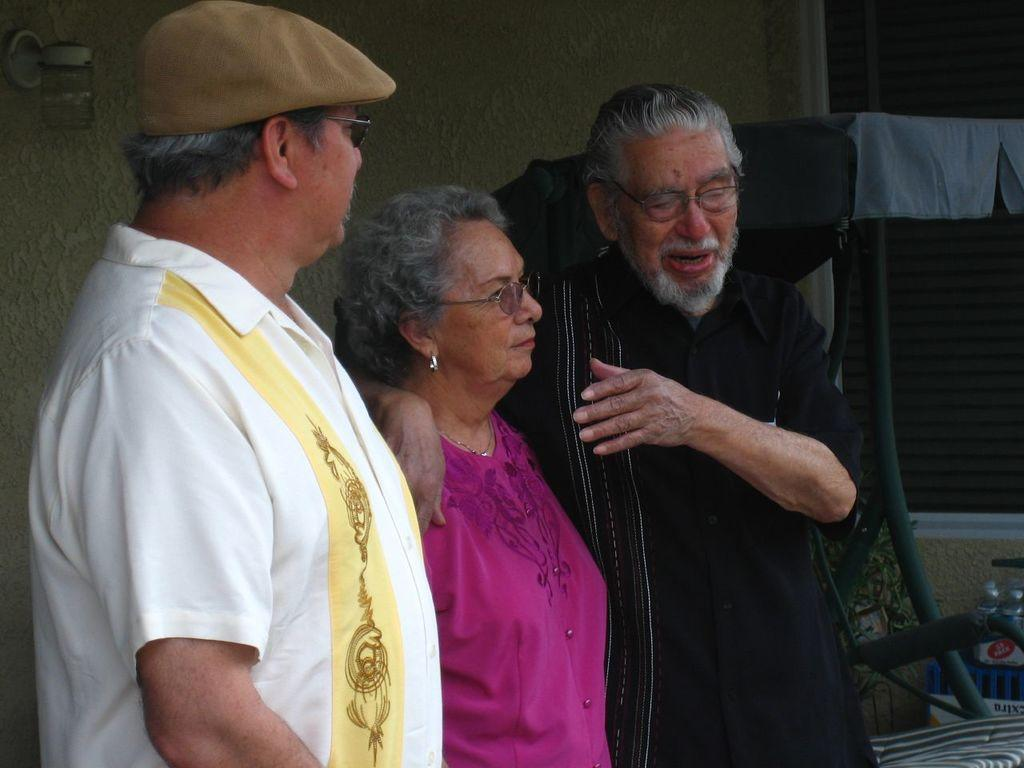Hat: (134, 0, 402, 139)
